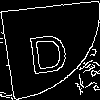D: (24, 25, 71, 75)
